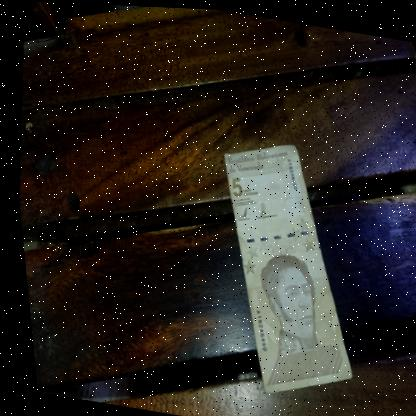five-front-vef: (190, 129, 374, 405)
